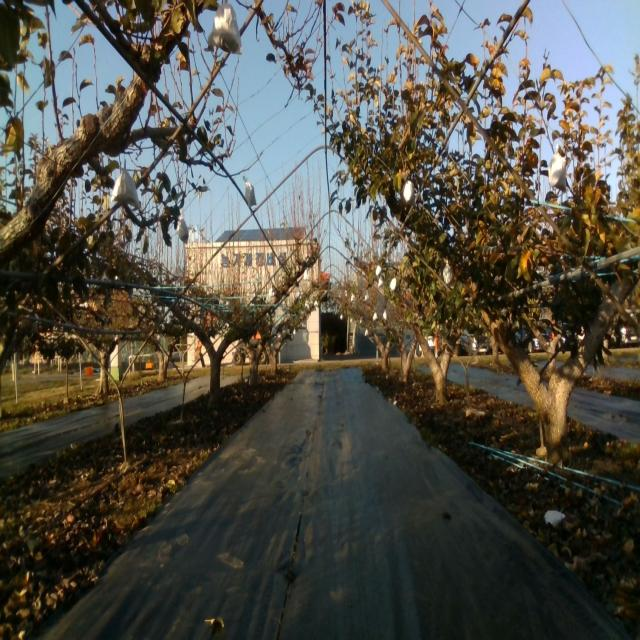pearbags: (208, 2, 243, 54), (110, 168, 138, 210), (548, 152, 565, 190), (243, 176, 257, 207), (176, 212, 188, 246), (402, 180, 415, 208)
